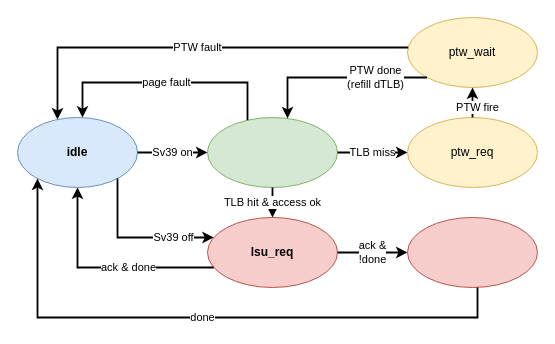
The diagram is 555 pixels wide and 344 high, and some of its shapes have lost their labels. The box of each missing label's shape, as (x1, y1, x2, y2) in pixels:
lsu_wait: (406, 216, 538, 288)
tlb_check: (206, 116, 338, 188)
